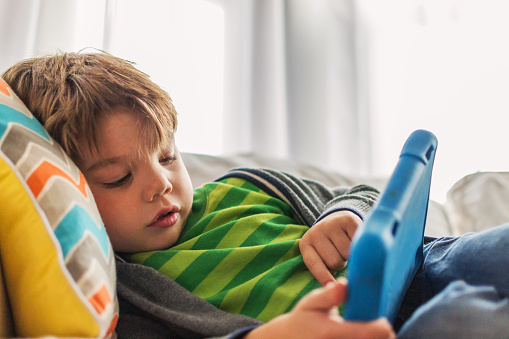deitado: (0, 37, 411, 339)
